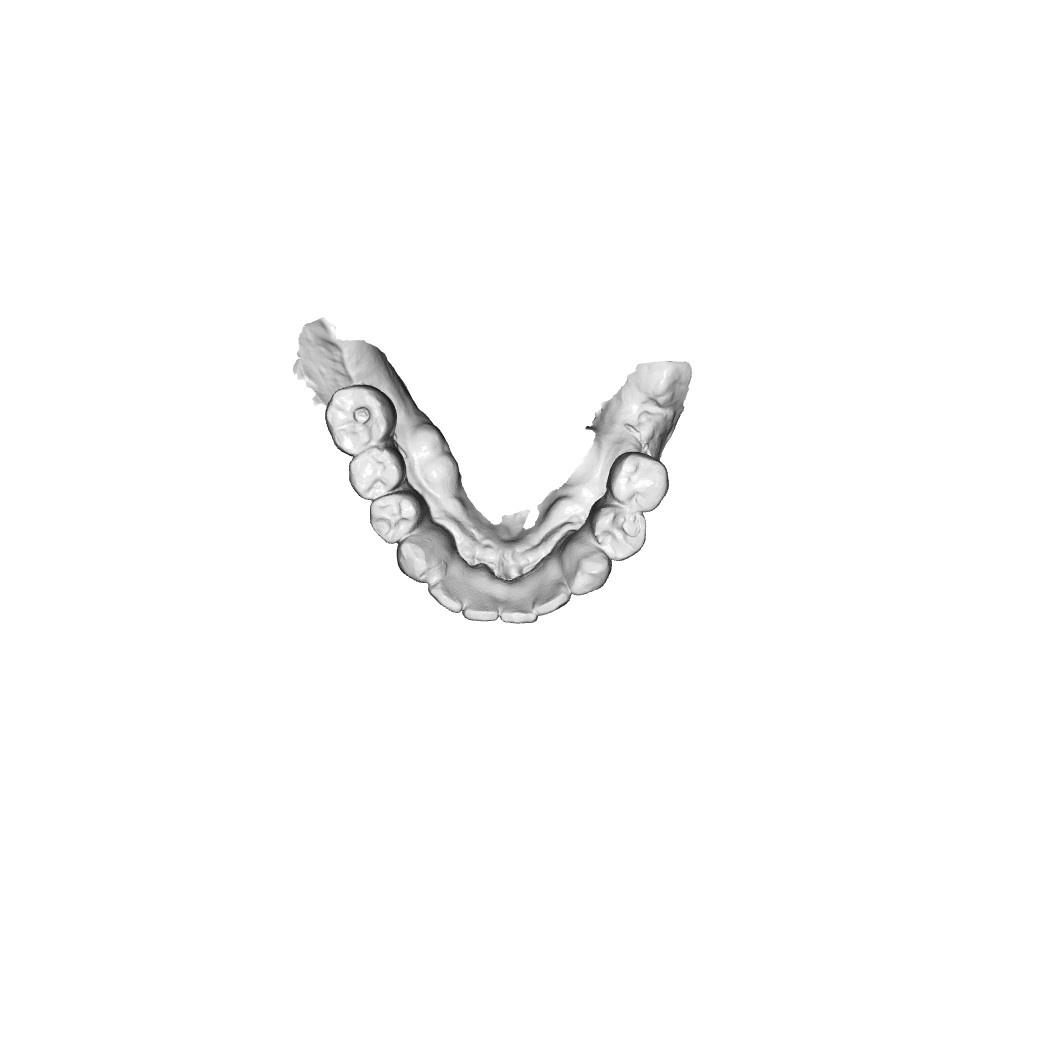canine: (560, 537, 615, 597), (396, 528, 452, 586)
incisor: (531, 565, 571, 620), (429, 569, 469, 618), (496, 581, 538, 627), (460, 582, 501, 624)
molar: (323, 383, 399, 458)
premolar: (605, 449, 671, 514), (585, 497, 648, 563), (345, 445, 408, 502), (369, 487, 423, 546)
